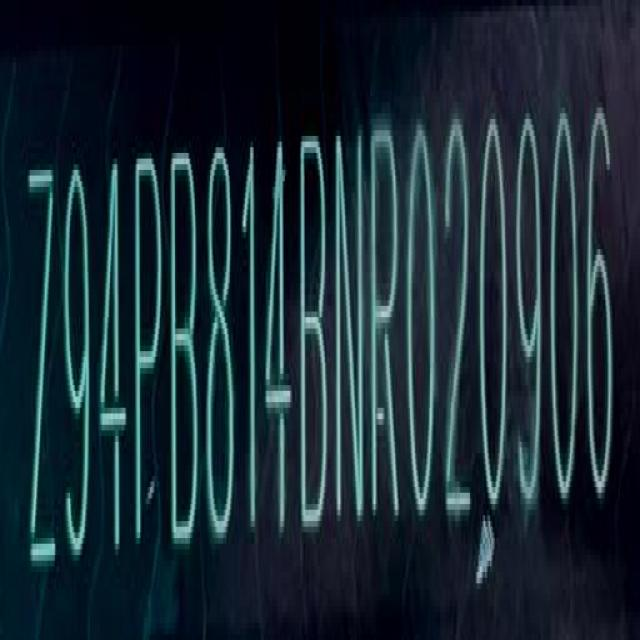0: (406, 117, 438, 529), (548, 110, 580, 512), (477, 117, 509, 519)
1: (243, 143, 260, 553)
2: (443, 117, 476, 519)
4: (98, 159, 130, 575), (263, 137, 295, 545)
6: (588, 107, 619, 508)
8: (206, 144, 236, 545)
9: (61, 162, 92, 578), (515, 116, 546, 519)
B: (170, 145, 203, 560), (300, 127, 333, 537)
N: (338, 123, 367, 535)
P: (132, 151, 164, 568)
R: (369, 119, 402, 533)
Z: (24, 151, 58, 589)
